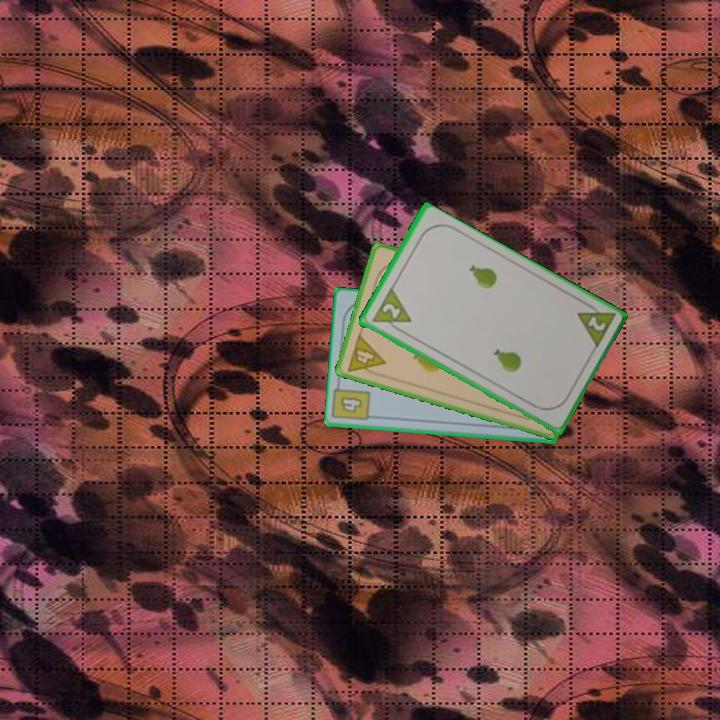2p: (573, 297, 618, 352), (378, 300, 403, 322)
4b: (337, 393, 364, 416)
4p: (343, 331, 388, 380)
